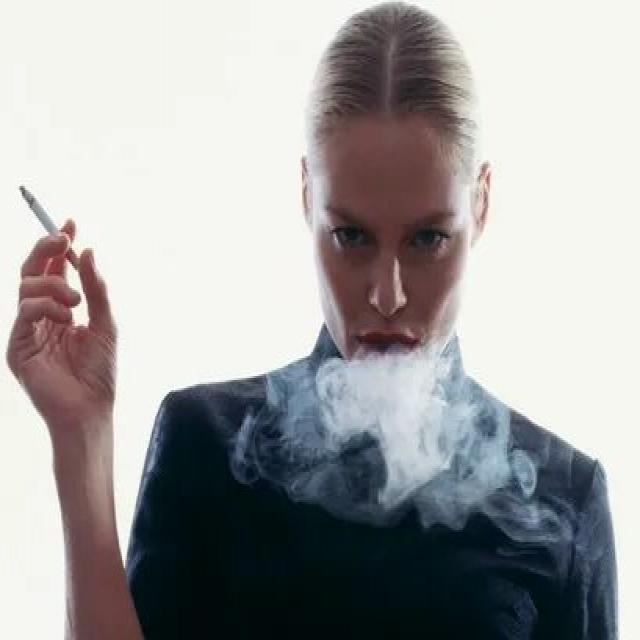cigarette: (17, 184, 89, 274)
